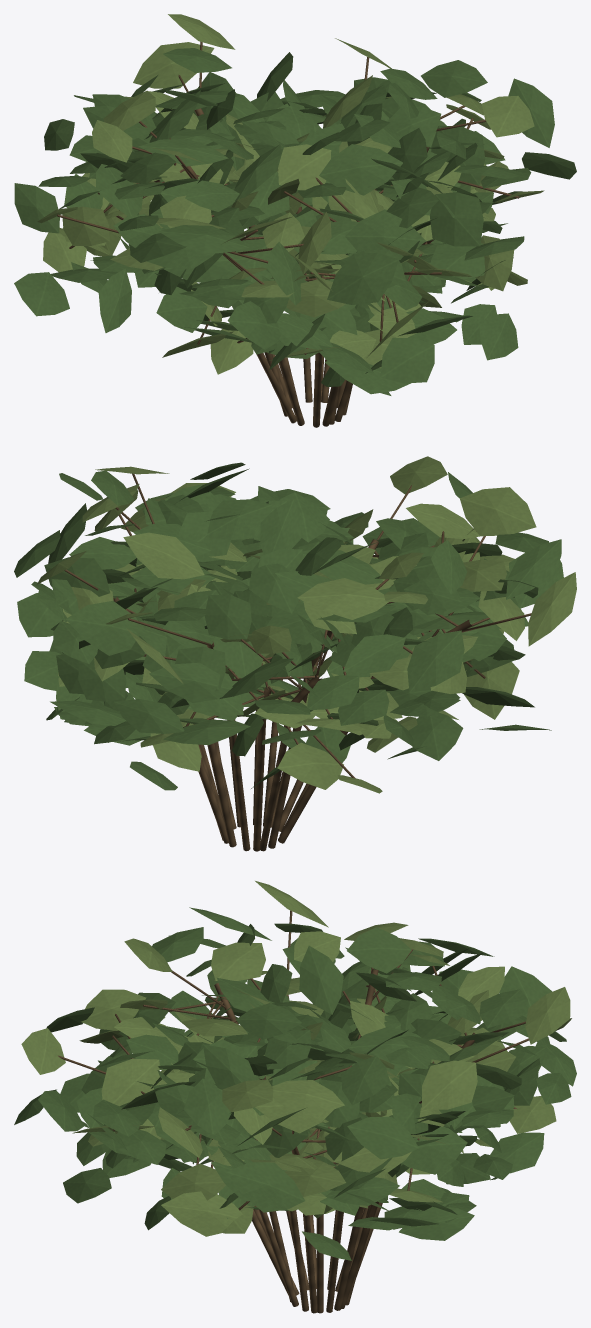
File: bush_small.glb
The picture shows the model from 3 angles, top to bottom: view 1: azimuth 30°, elevation 25°; view 2: azimuth 150°, elevation 25°; view 3: azimuth 270°, elevation 25°; orthographic projection. The views are drawn at different scales.
Parts seen in each view (by area): view 1: Bush.001; view 2: Bush.001; view 3: Bush.001.
Part boxes in pixels (left/top/right/bottom): Bush.001: left=14, top=14, right=576, bottom=427; Bush.001: left=14, top=456, right=576, bottom=851; Bush.001: left=14, top=881, right=576, bottom=1313.
Bounding box in the file's own units: 1.51 × 0.9259 × 1.47.
Materials: 3 (3 with a texture image).
